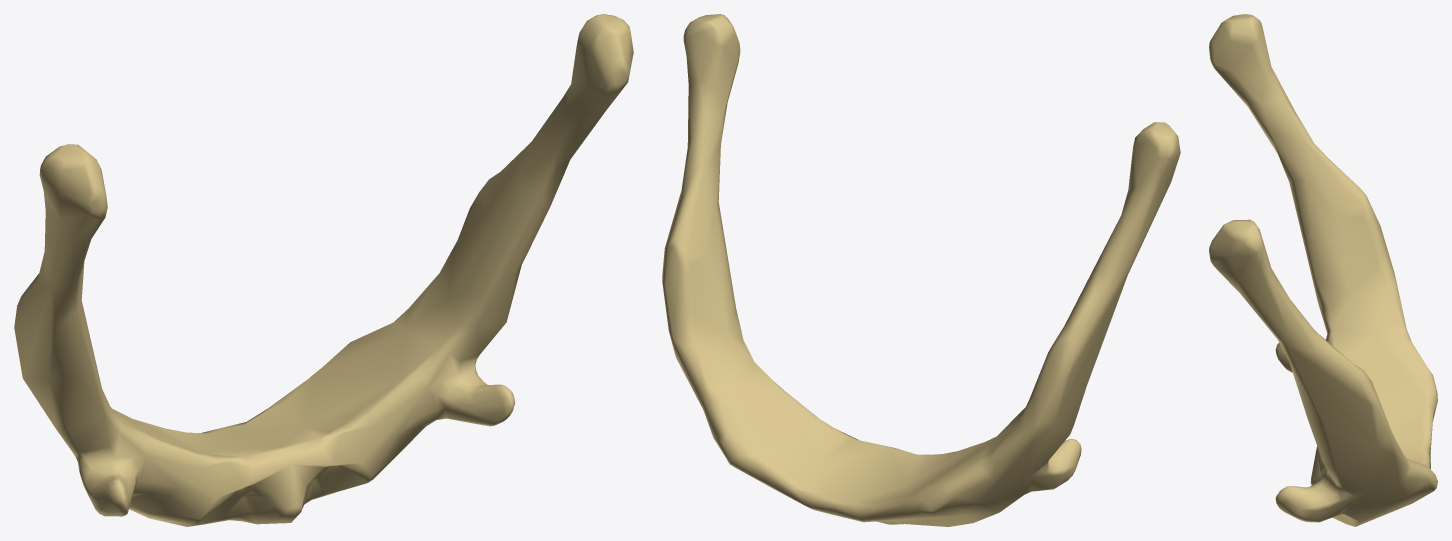
3 renders of one model, left to right at view 1: azimuth 30°, elevation 25°; view 2: azimuth 150°, elevation 25°; view 3: azimuth 270°, elevation 25°, orthographic. The views are drawn at different scales.
Visible parts, largest first — view 1: 舌骨; view 2: 舌骨; view 3: 舌骨.
Part boxes in pixels (x1,y1,x2,y2): 舌骨: (14, 14, 633, 526); 舌骨: (662, 14, 1180, 526); 舌骨: (1209, 14, 1437, 526).
Size of the model in its own units: 0.067 by 0.053 by 0.0288.
